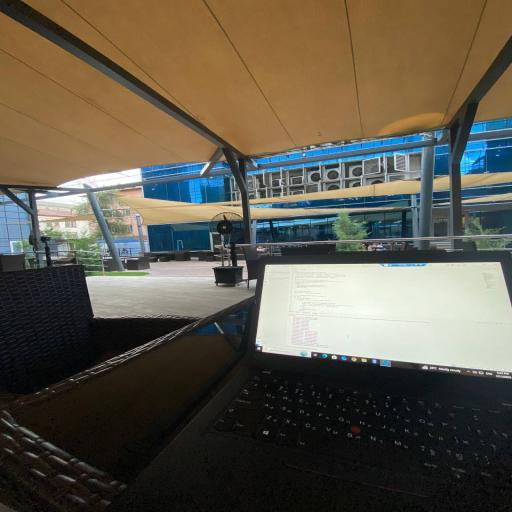corridor: (112, 251, 512, 512)
phone: (0, 288, 258, 512)
